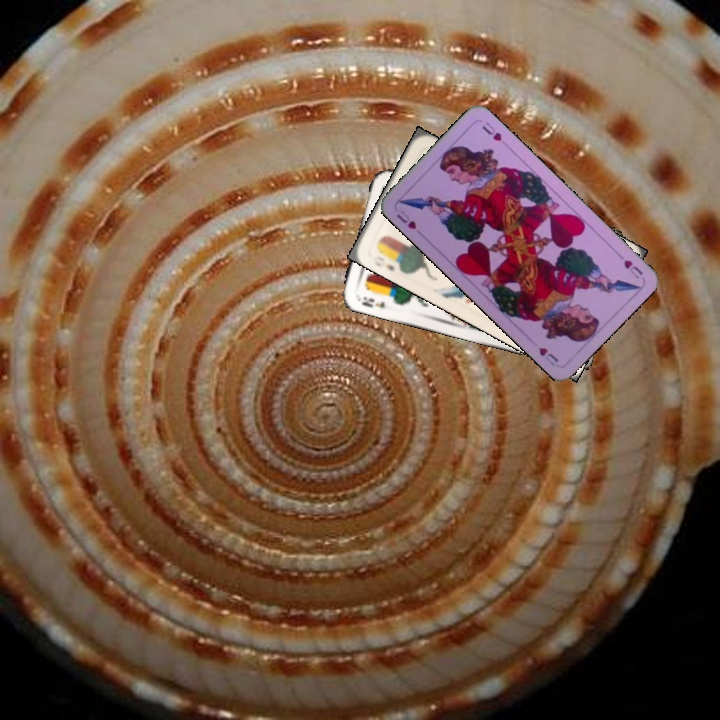EK: (358, 292, 387, 311)
EO: (369, 252, 397, 274)
HU: (392, 206, 419, 232), (620, 255, 645, 281)
